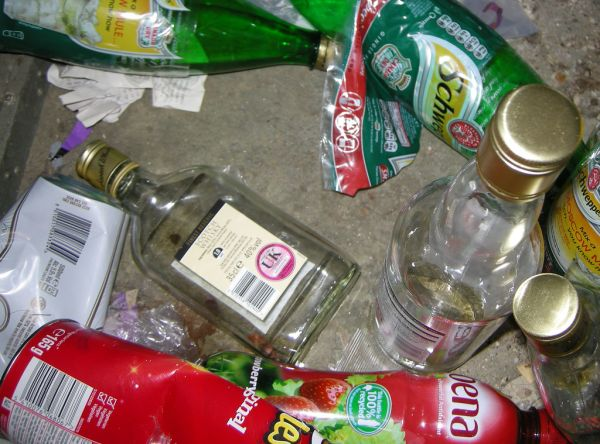unknown_bottle: (74, 140, 361, 368), (371, 84, 584, 376), (0, 318, 321, 440), (206, 350, 571, 441), (512, 273, 600, 435), (544, 127, 600, 299)
